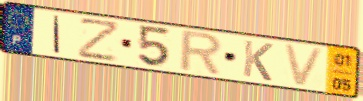5: (137, 23, 173, 70)
I: (52, 14, 62, 55)
K: (241, 38, 276, 83)
R: (177, 29, 225, 79)
V: (281, 42, 328, 89)
Z: (78, 18, 123, 64)
